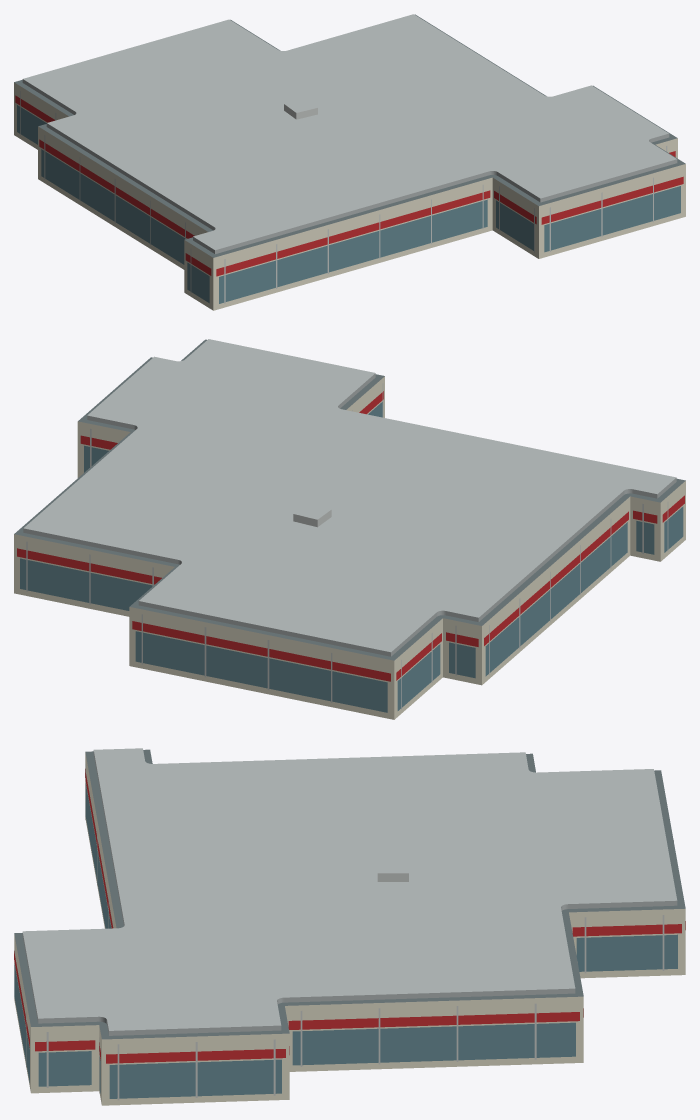
3 renders of one model, top to bottom at view 1: azimuth 30°, elevation 25°; view 2: azimuth 150°, elevation 25°; view 3: azimuth 270°, elevation 25°, orthographic. The views are drawn at different scales.
Visible parts, largest first — view 1: drugstore-mori-ukiha; view 2: drugstore-mori-ukiha; view 3: drugstore-mori-ukiha.
Part boxes in pixels (bbox=[...]): drugstore-mori-ukiha: bbox=[14, 14, 685, 310]; drugstore-mori-ukiha: bbox=[14, 339, 685, 719]; drugstore-mori-ukiha: bbox=[14, 748, 685, 1105].
Size of the model in its own units: 43.85 by 5.62 by 42.93.
